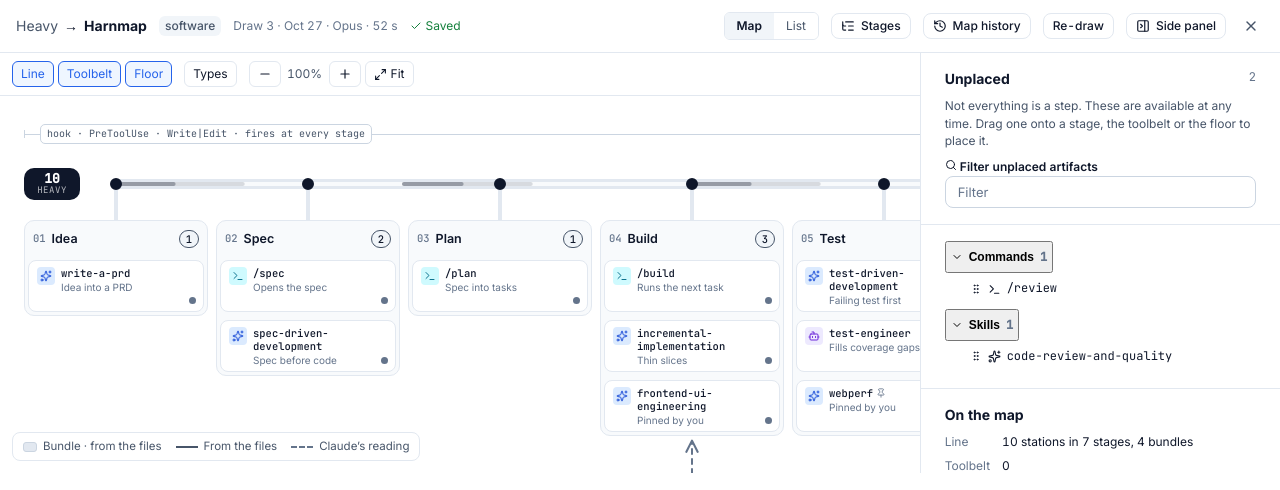
Scenario: Harnmap screen: unplaced and placing › lists the unplaced artifacts by type and filters them
The width and height of the screenshot is (1280, 490).
Expected: the button "Commands 1" is shown, [945,241,1053,273]
Expected: the button "Skills 1" is shown, [945,309,1019,341]
Type "code" into the field labelled "Filter unplaced artifacts" at {"x": 1100, "y": 192}, box [945,176,1256,208]
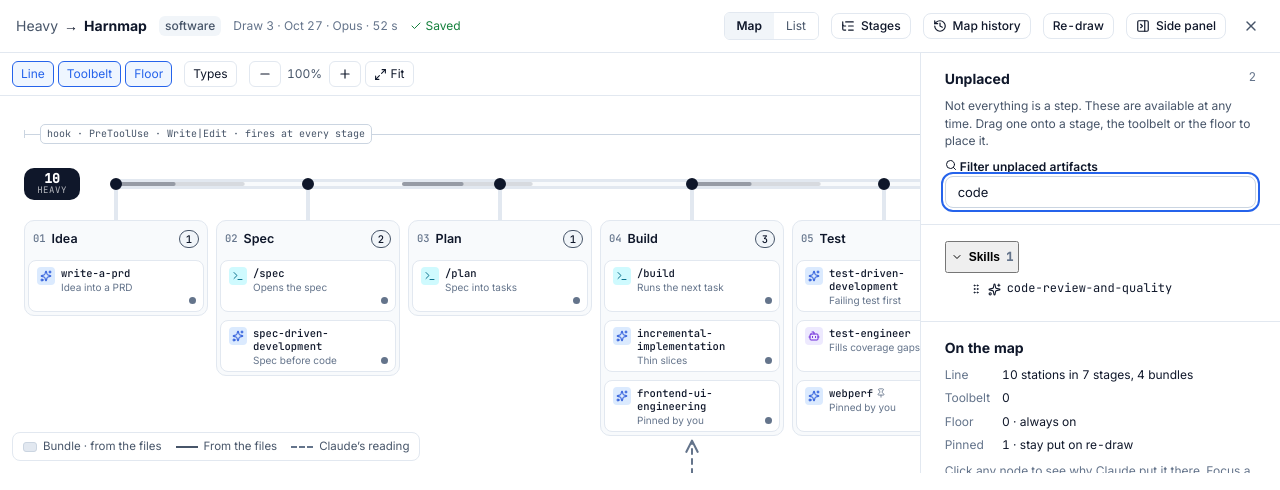
Expected: the text "code-review-and-quality" is shown, [1007,280,1172,296]
Result: the list item "/review" is gone
Replace the text in the field labelled "Filter unplaced artifacts" with "nothing" at {"x": 1100, "y": 192}, box [945,176,1256,208]
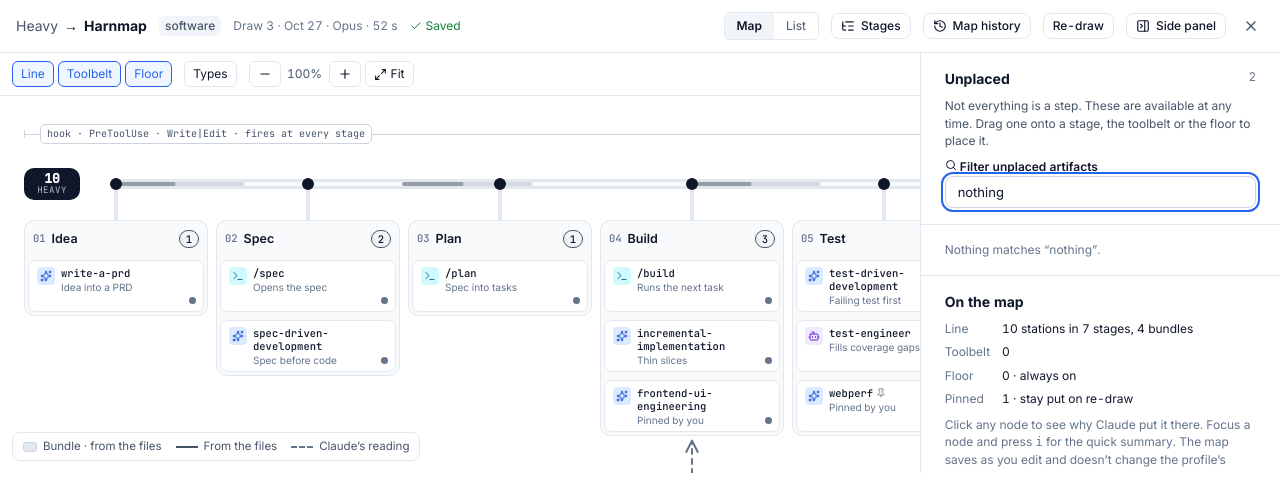
Result: the text "Nothing matches “nothing”." is shown at [945,242,1100,257]
